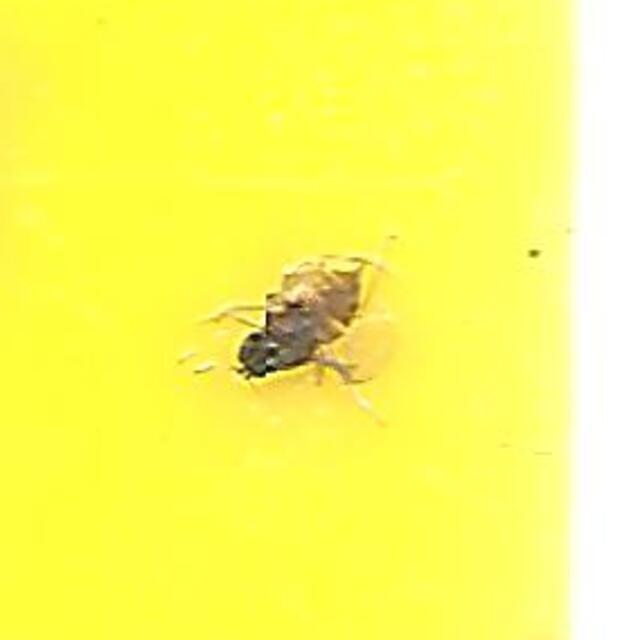Brachycera: (225, 241, 415, 399)
